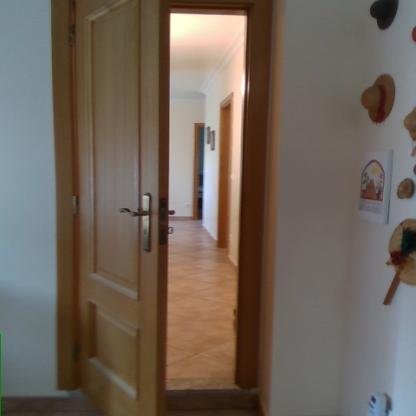semi: (55, 0, 272, 416)
